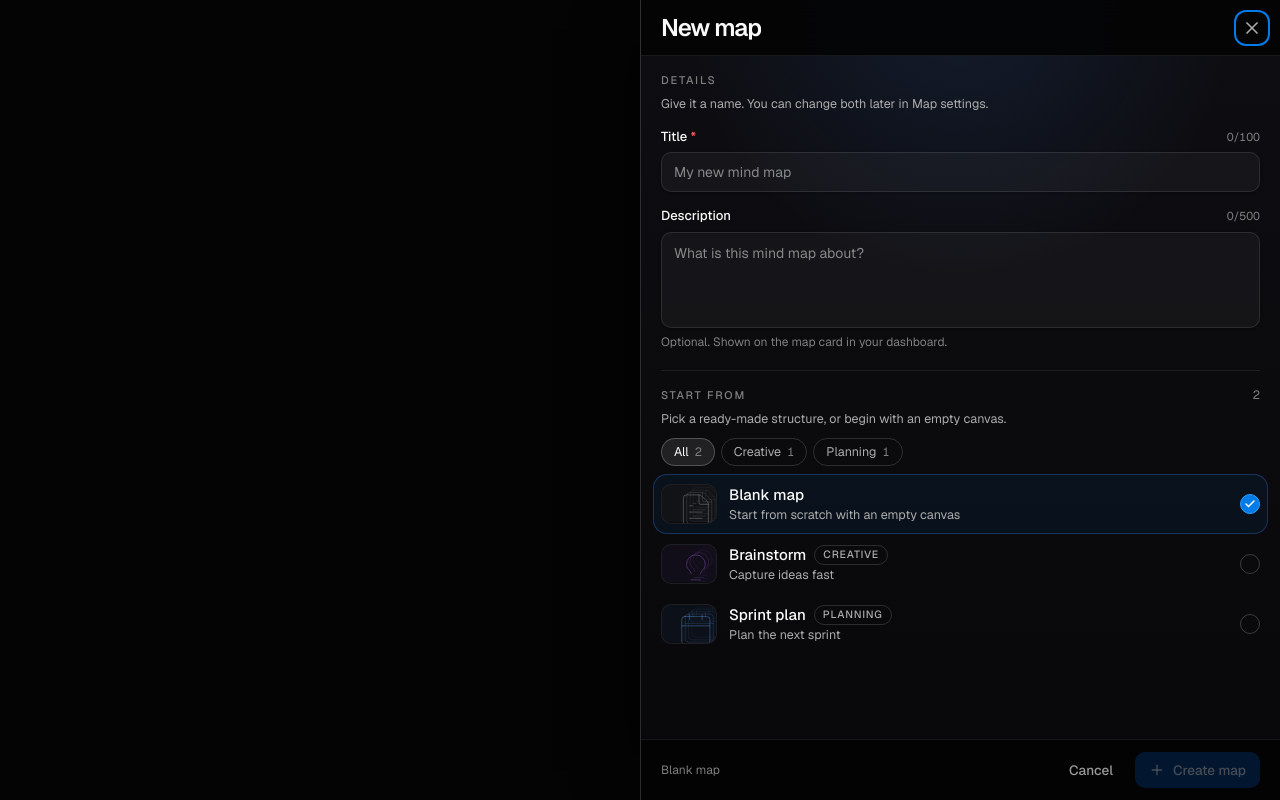
Test: CreateMapDialog › asks for a title after leaving the empty field
Click the field labelled "Title *".
click(960, 172)  # box [661,152,1260,192]
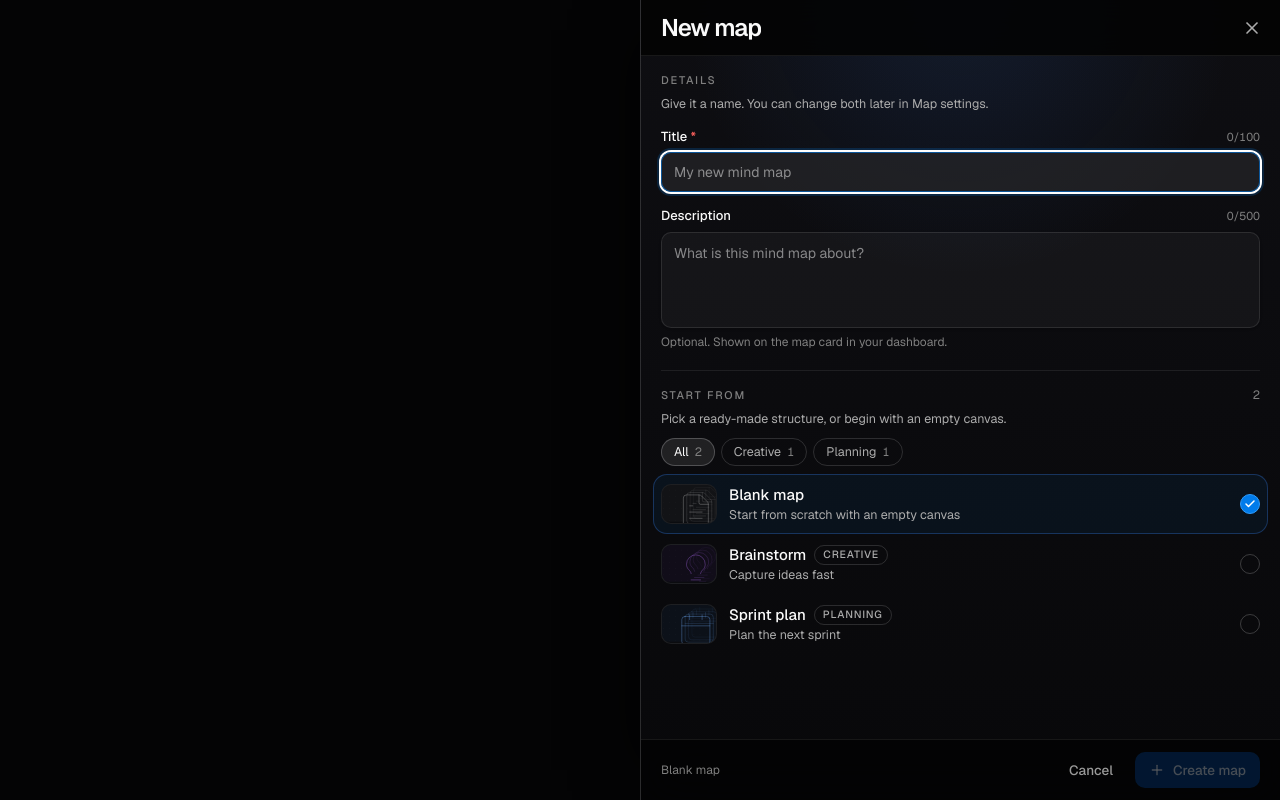
Press Tab
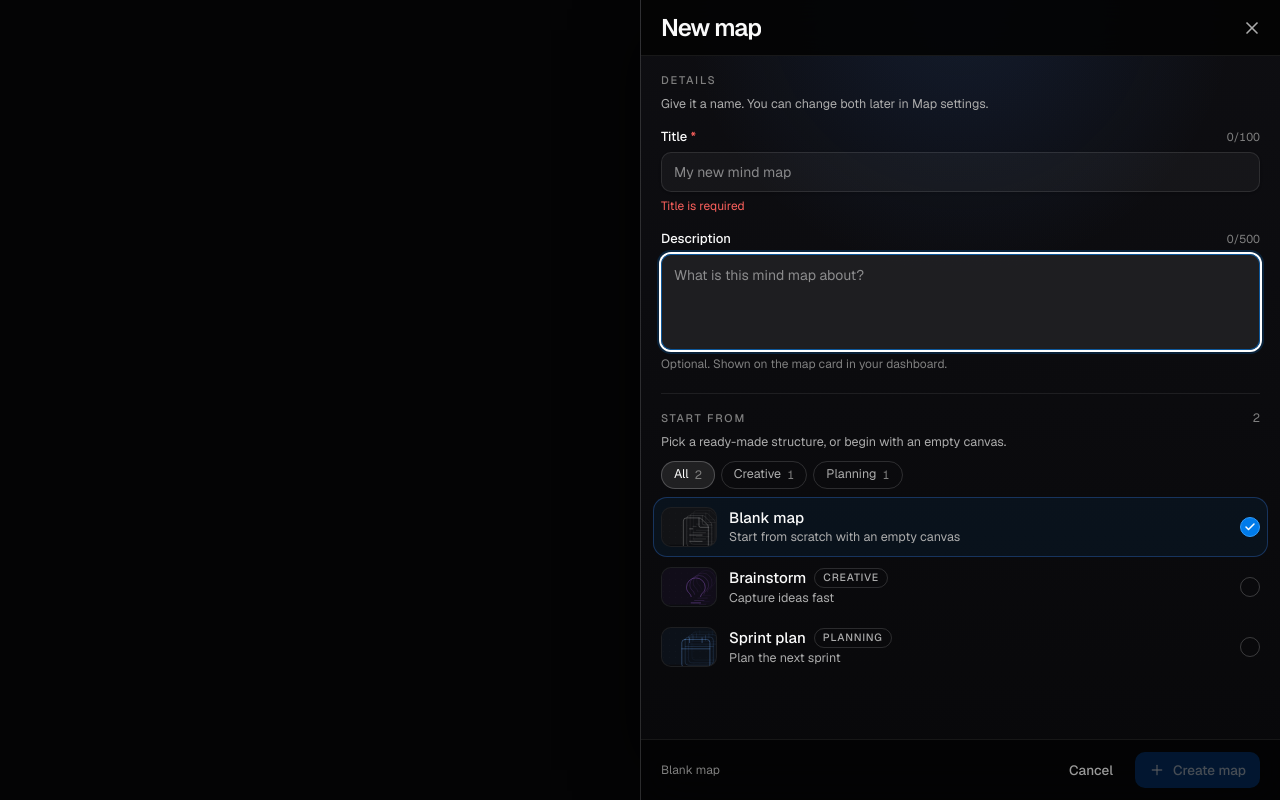
Check: the message reads "Title is required", box [661,198,745,214]
